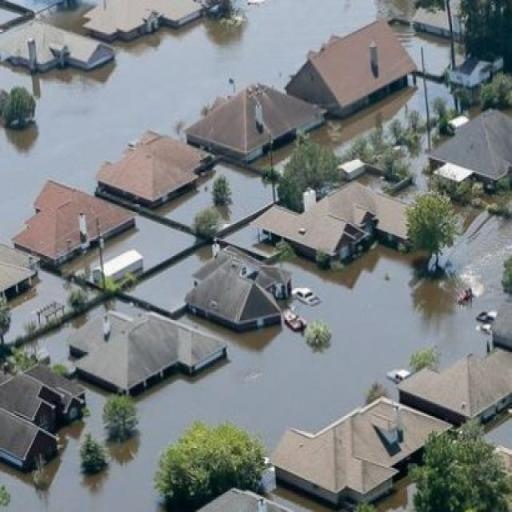flood: (0, 220, 512, 512), (0, 0, 378, 243), (311, 78, 426, 152), (155, 163, 272, 225), (124, 244, 212, 316), (104, 214, 197, 270), (4, 270, 74, 342), (104, 214, 196, 268), (23, 305, 102, 364), (392, 24, 450, 78), (37, 2, 96, 34), (59, 246, 99, 274), (273, 142, 295, 174), (112, 299, 147, 318), (8, 0, 61, 12), (251, 156, 271, 170)
house: (270, 394, 439, 504), (65, 294, 214, 392), (286, 16, 424, 121), (179, 77, 323, 167), (184, 226, 297, 332), (10, 175, 140, 267), (1, 357, 84, 480), (92, 128, 214, 210), (393, 348, 512, 431), (270, 191, 368, 267), (0, 24, 117, 84), (429, 107, 511, 192), (84, 0, 207, 45), (413, 1, 456, 43)
